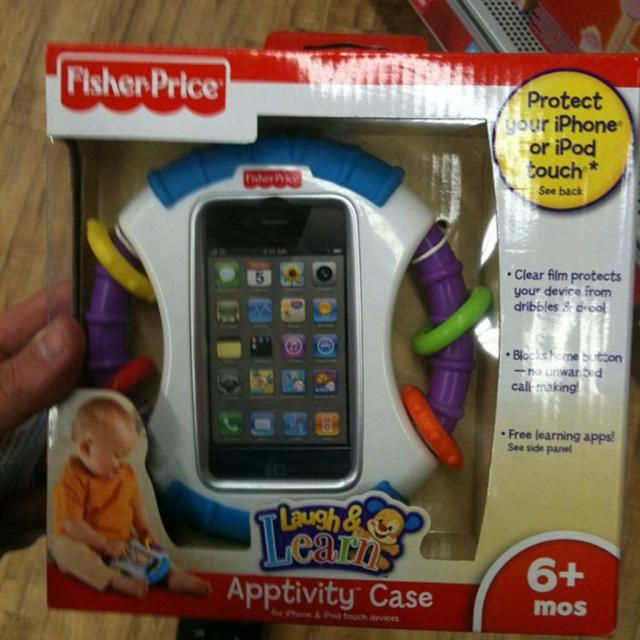Mobile-phone: (168, 174, 384, 505)
